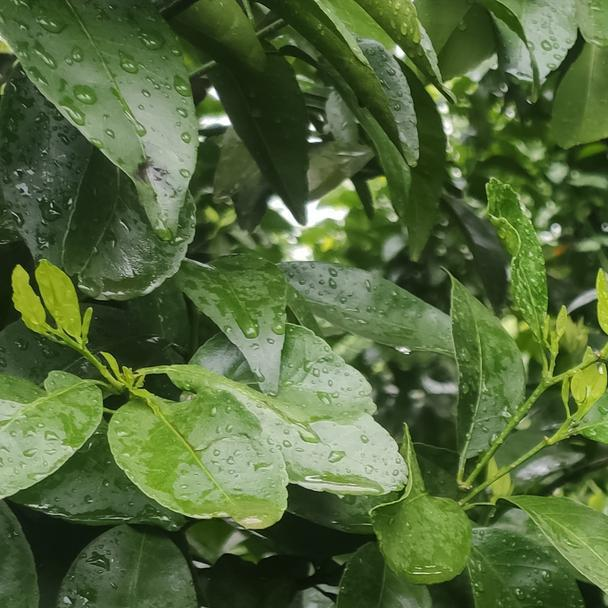shoot: (10, 263, 102, 366)
